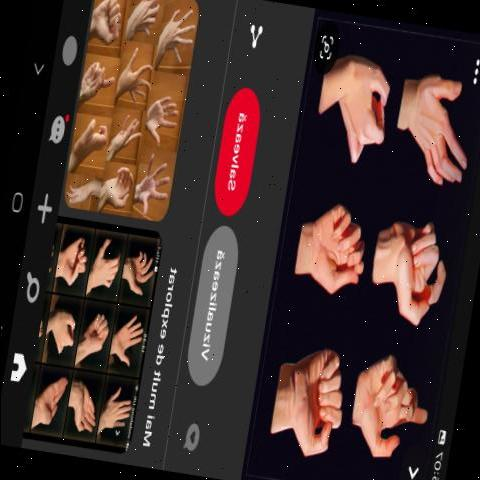Hands: (394, 49, 480, 190), (288, 181, 364, 307), (360, 337, 434, 460), (284, 319, 342, 463), (109, 302, 144, 376)
